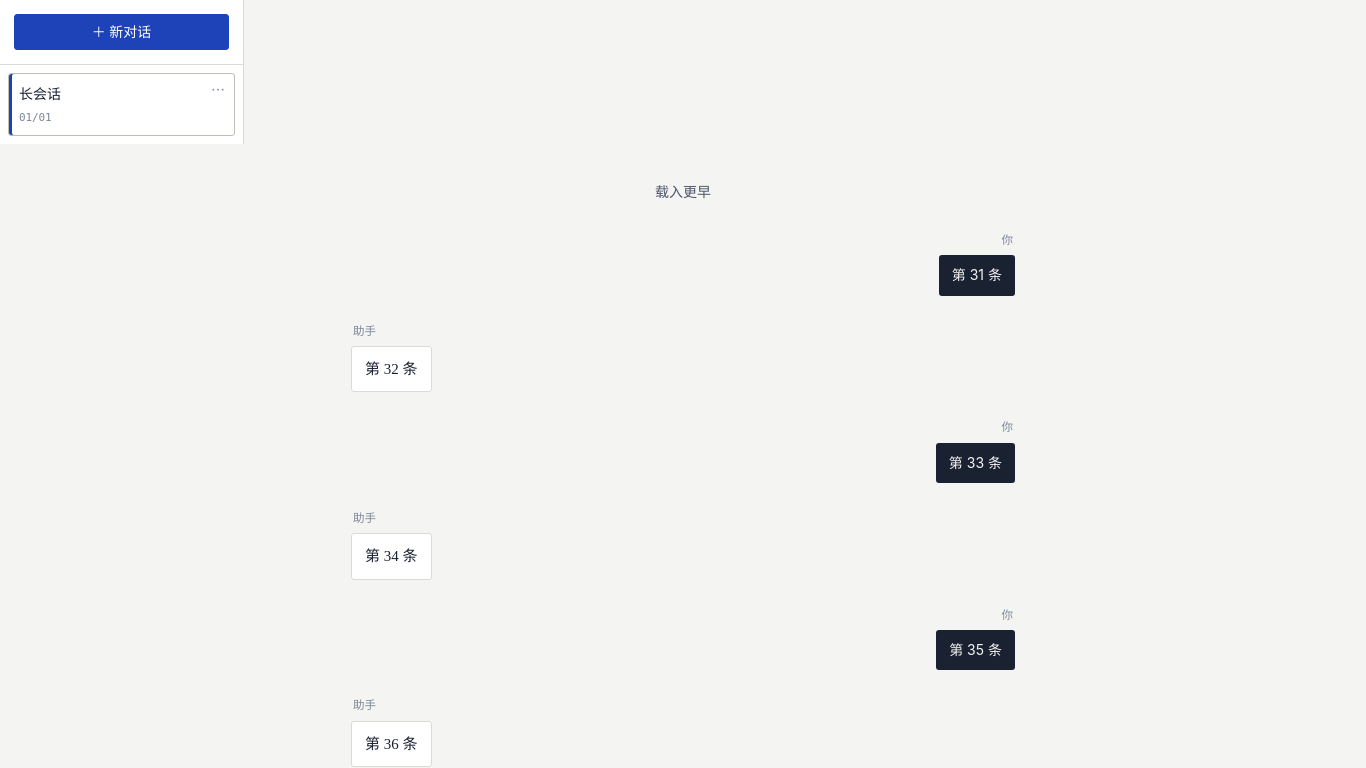
长会话往上翻 › 点「载入更早」：拿屏幕上最旧那条的 id 当游标，把上一段接在顶上
The image size is (1366, 768).
Click the button "载入更早": [683, 193] box [641,174,725,211]
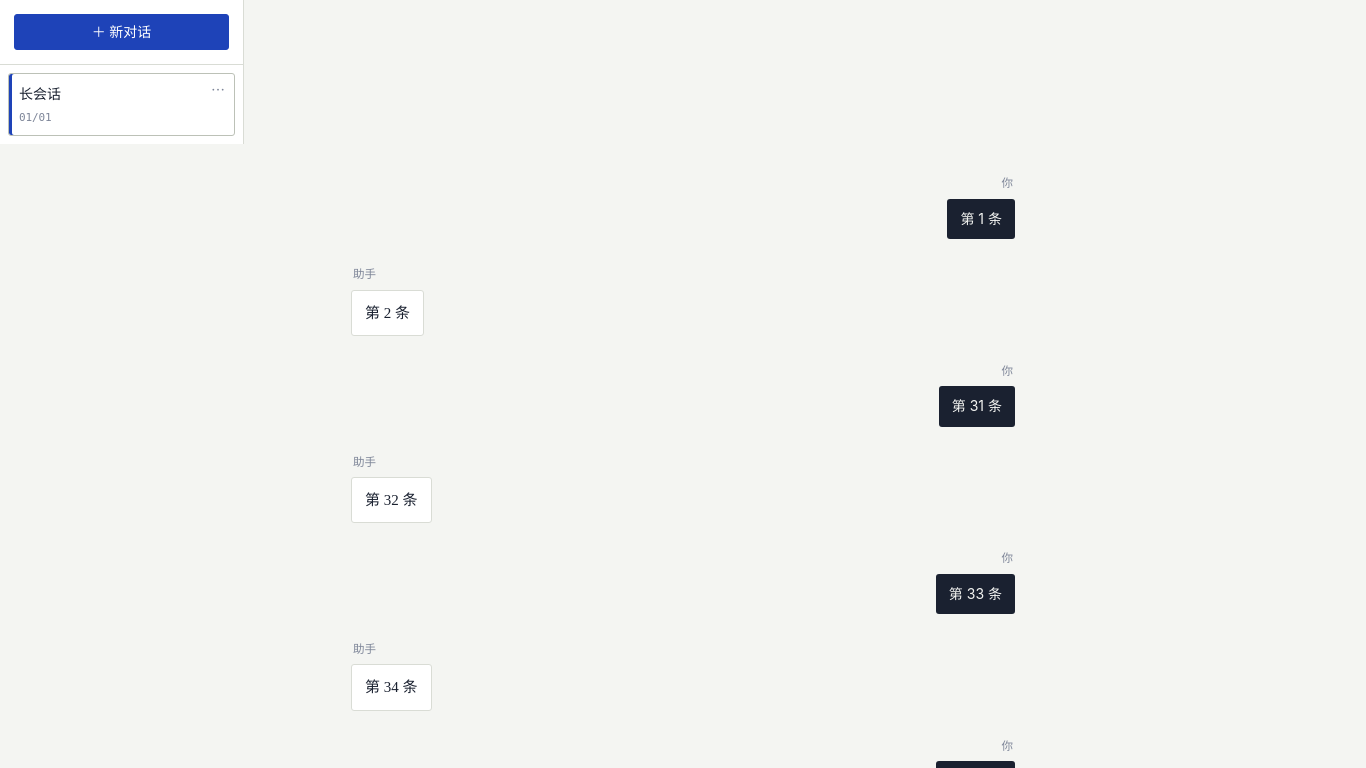
Expected: the number of elements with class "said" is 32
